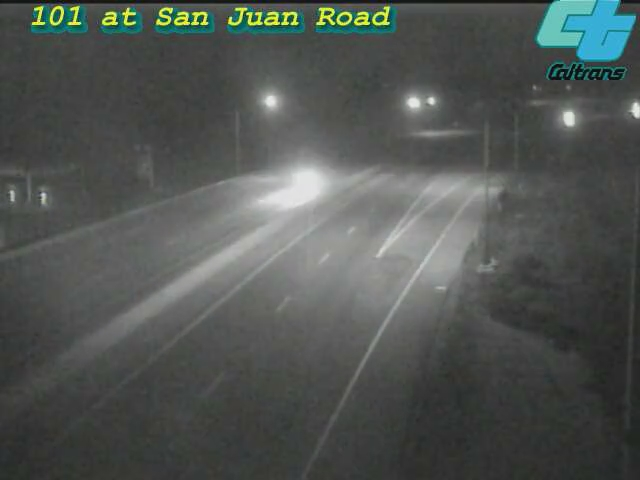vehicle: (261, 144, 341, 224), (541, 94, 591, 144), (610, 85, 640, 135)
